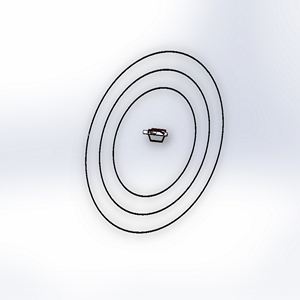circle: (80, 44, 232, 243)
submarine: (140, 120, 173, 151)
